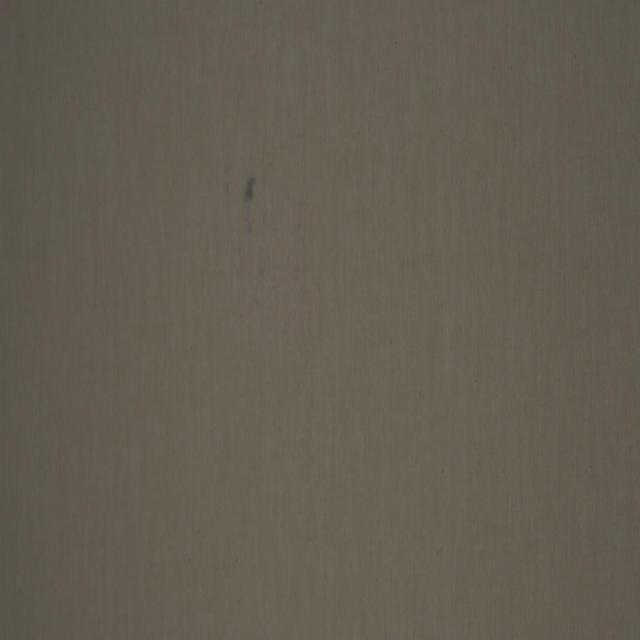dirty: (240, 173, 256, 222)
